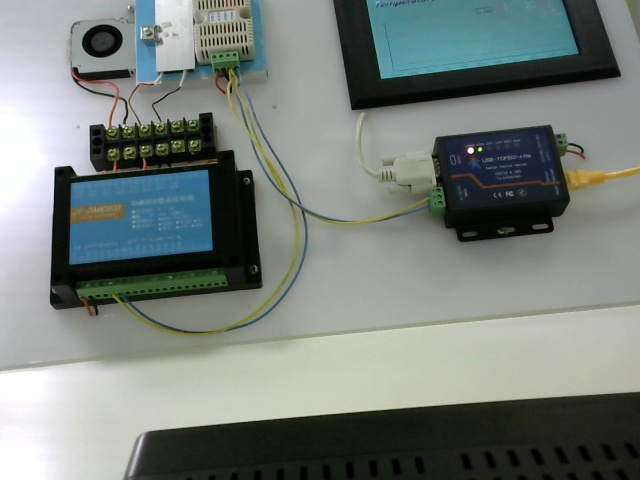fan: (62, 15, 141, 89)
modbus bridge: (436, 123, 575, 245)
relay: (38, 159, 279, 317)
